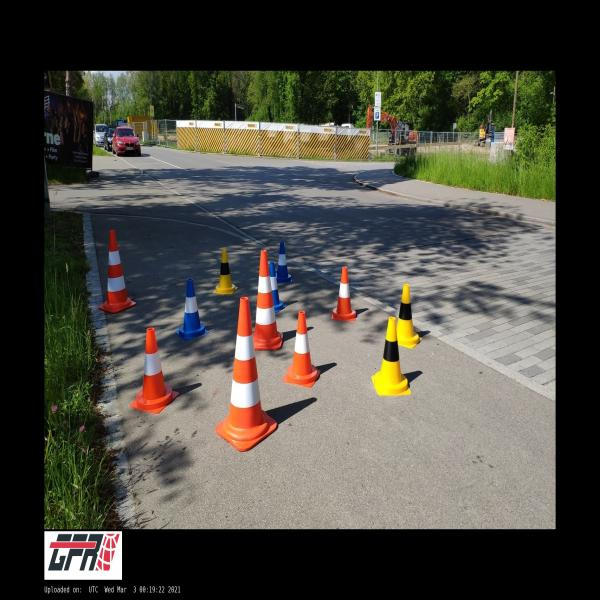blue_cone: (175, 278, 209, 341), (269, 262, 286, 312), (276, 241, 292, 283)
large_orange_cone: (215, 297, 276, 452), (99, 229, 136, 313), (253, 250, 283, 349)
orange_cone: (130, 327, 179, 414), (282, 311, 321, 388), (332, 267, 356, 321)
yellow_cone: (372, 317, 411, 396), (397, 283, 422, 348), (213, 249, 237, 294)
